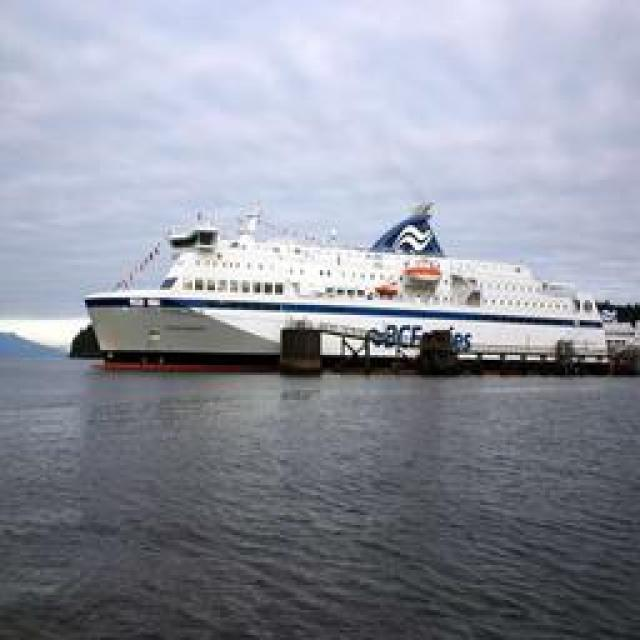CIV_Ship: (89, 196, 606, 374)
